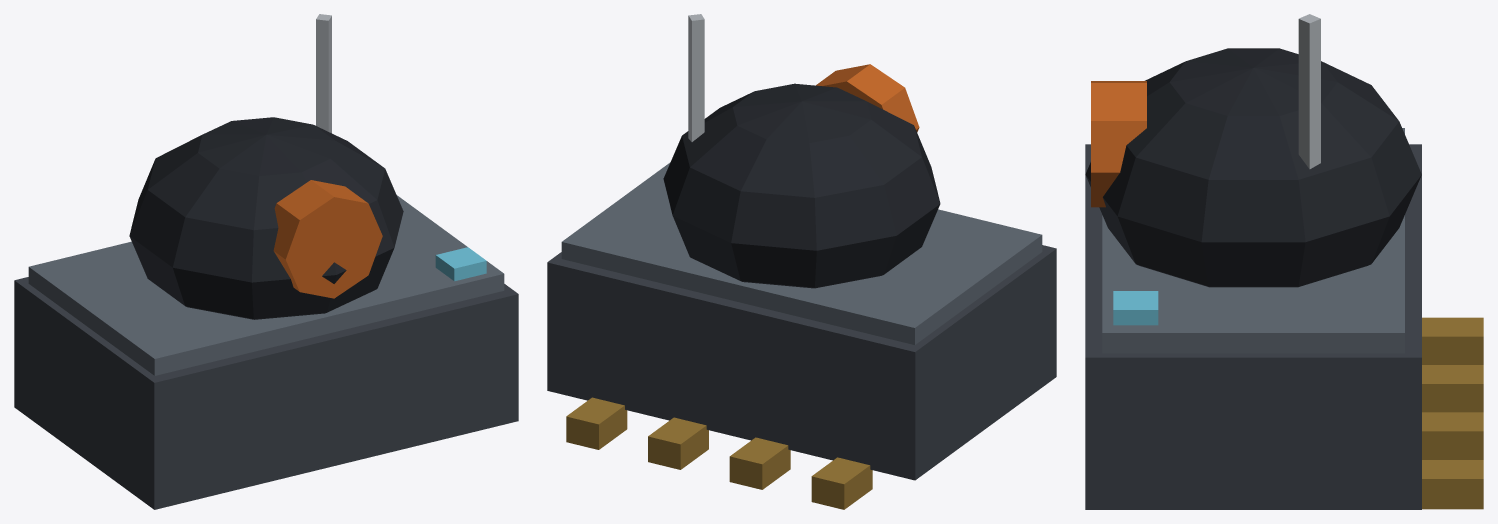
The model's file is droid-sentry.glb.
3 renders of one model, left to right at view 1: azimuth 30°, elevation 25°; view 2: azimuth 150°, elevation 25°; view 3: azimuth 270°, elevation 25°, orthographic. The views are drawn at different scales.
Parts seen in each view (by area): view 1: m; view 2: m; view 3: m.
Part boxes in pixels (<box>): m: <box>14,14,518,509</box>; m: <box>547,14,1056,509</box>; m: <box>1085,14,1483,509</box>.
Size of the model in its own units: 0.1 by 0.1 by 0.0789.
